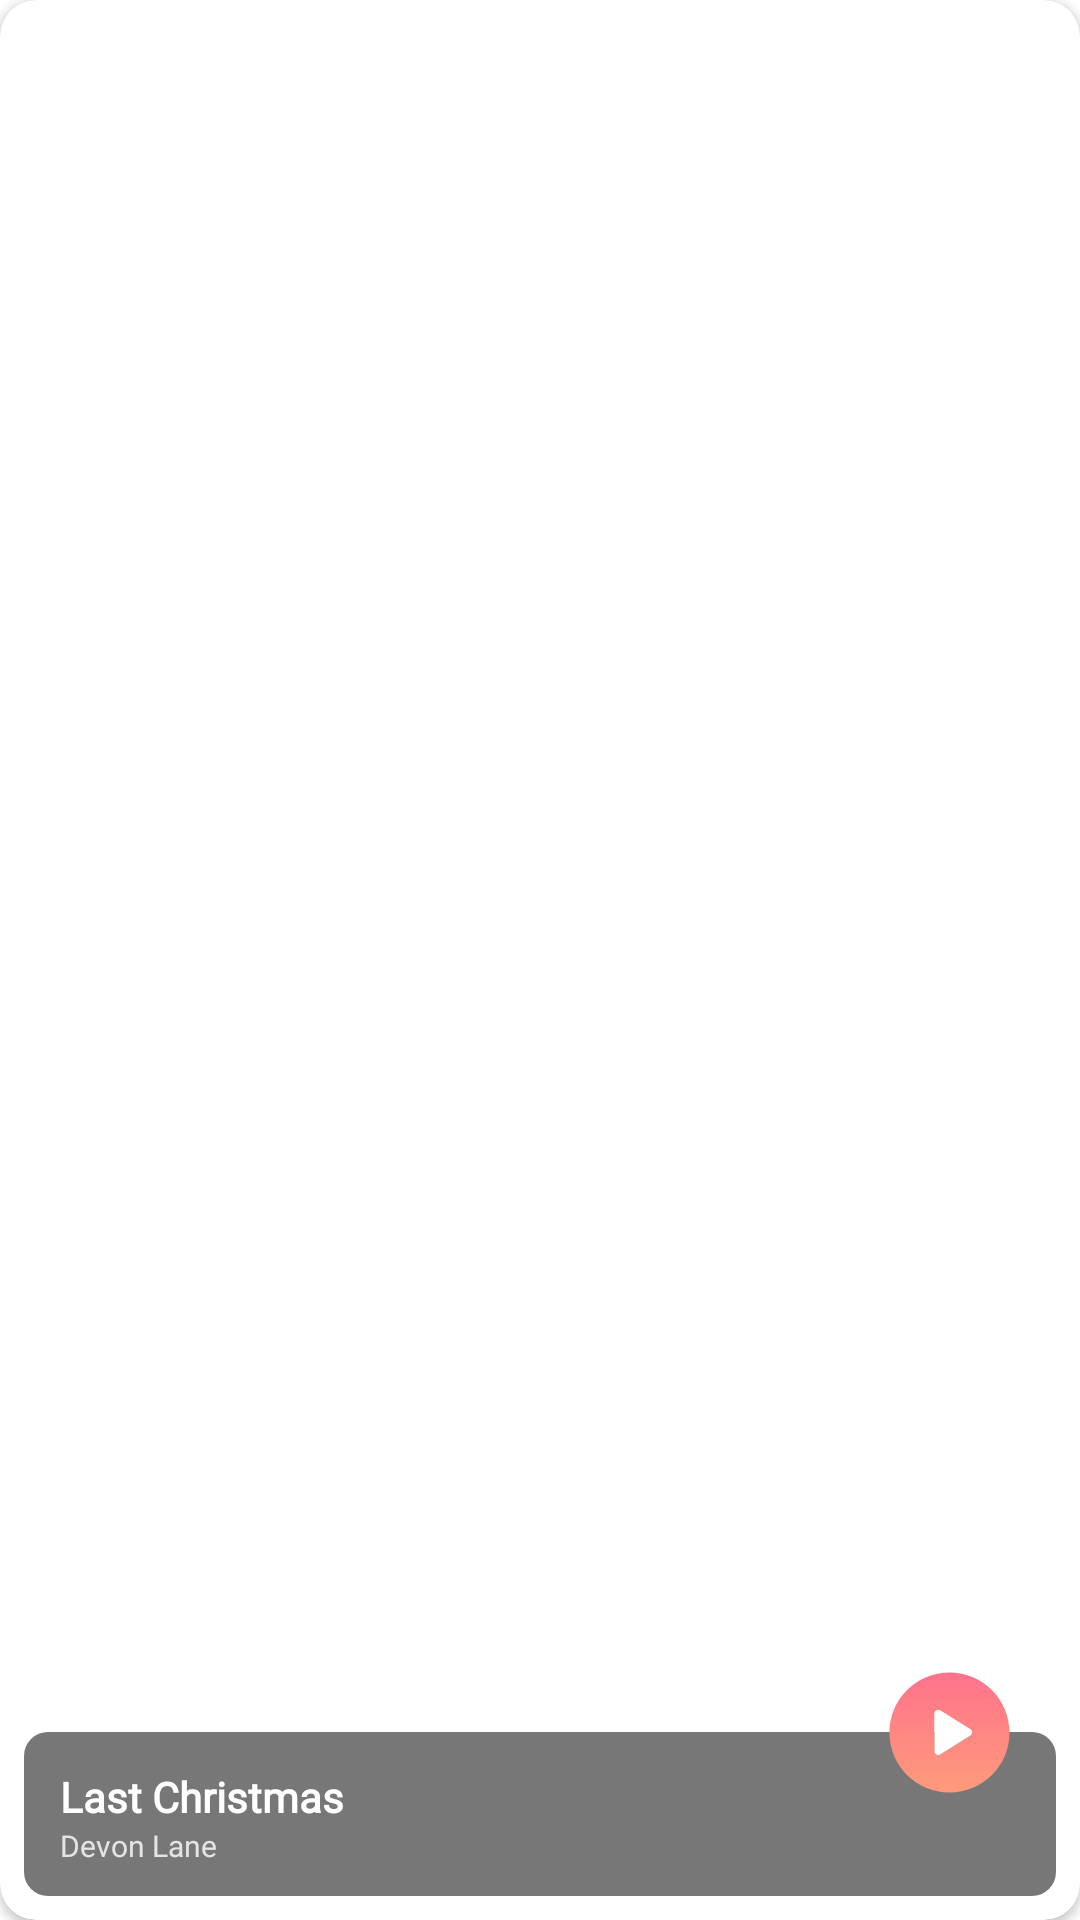

Where to tap for icons on this 1080 × 1920 app screen, as point (x, y):
play pause song: point (949, 1732)
